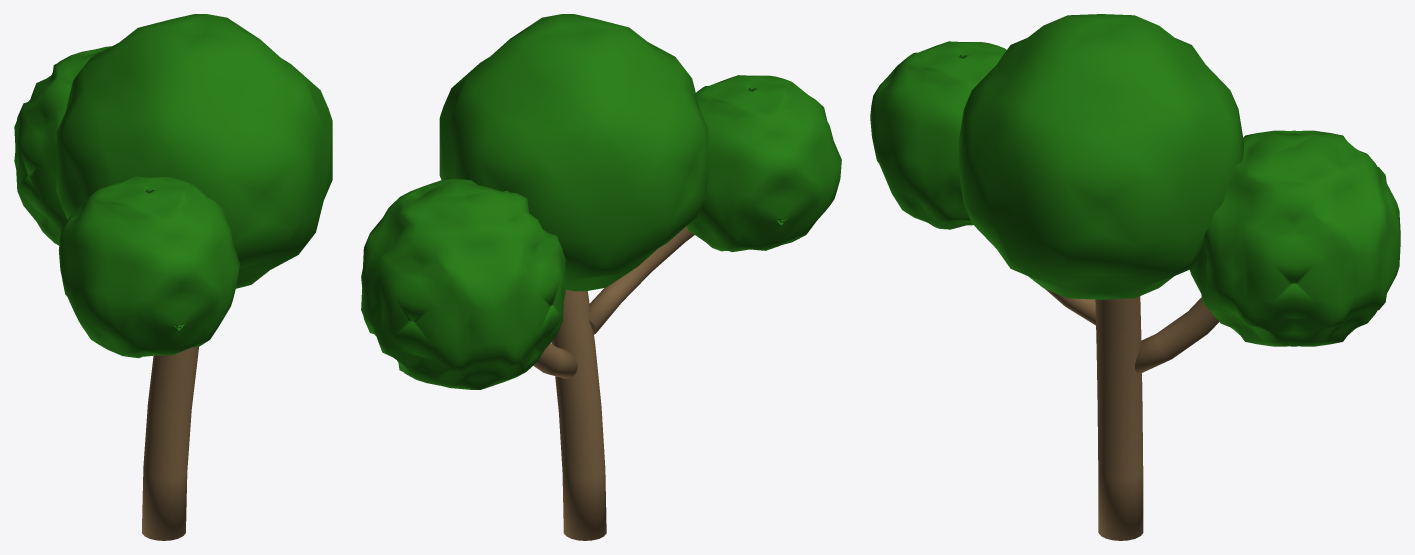
Rendered from baum3_II.dae.
3 renders of one model, left to right at view 1: azimuth 30°, elevation 25°; view 2: azimuth 150°, elevation 25°; view 3: azimuth 270°, elevation 25°, orthographic. The views are drawn at different scales.
Visible parts, largest first — view 1: Geosph_re002, Geosph_re001, Zylinder001, Geosph_re003; view 2: Geosph_re002, Geosph_re003, Geosph_re001, Zylinder001, Zylinder003, Zylinder002; view 3: Geosph_re002, Geosph_re003, Geosph_re001, Zylinder001, Zylinder002, Zylinder003.
Boxes of the visible parts, left/top/right/bottom form: Geosph_re002: left=56, top=14, right=332, bottom=288; Geosph_re001: left=58, top=176, right=239, bottom=358; Zylinder001: left=142, top=346, right=199, bottom=540; Geosph_re003: left=14, top=46, right=111, bottom=245; Geosph_re002: left=439, top=14, right=708, bottom=291; Geosph_re003: left=361, top=178, right=565, bottom=389; Geosph_re001: left=686, top=75, right=841, bottom=252; Zylinder001: left=551, top=289, right=606, bottom=540; Zylinder003: left=588, top=226, right=694, bottom=334; Zylinder002: left=533, top=343, right=577, bottom=378; Geosph_re002: left=958, top=14, right=1243, bottom=299; Geosph_re003: left=1190, top=130, right=1400, bottom=346; Geosph_re001: left=870, top=41, right=1006, bottom=229; Zylinder001: left=1095, top=296, right=1143, bottom=540; Zylinder002: left=1135, top=297, right=1218, bottom=373; Zylinder003: left=1045, top=289, right=1095, bottom=325.
Size of the model in its own units: 1.44 by 2.07 by 2.21.
